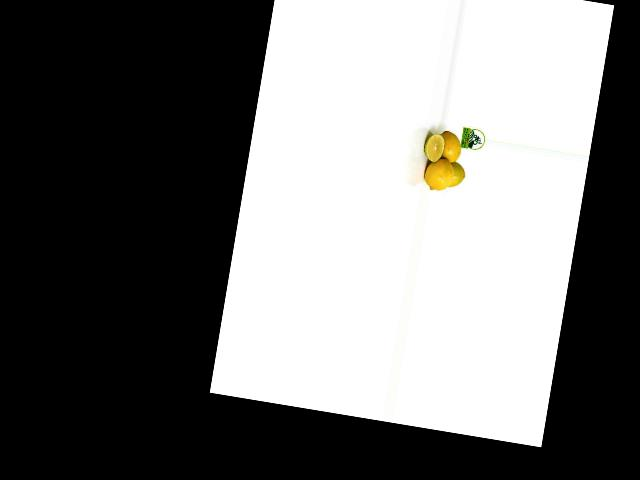lemon: (420, 156, 455, 196)
